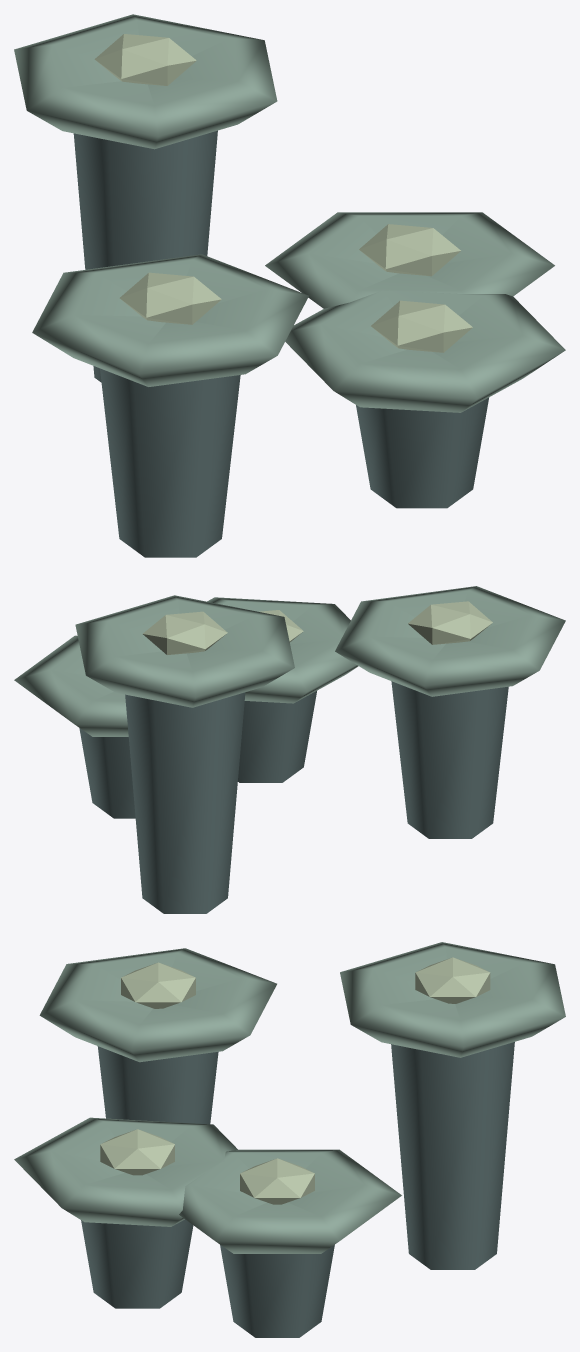
The model's file is plant-sporeCups.glb.
The picture shows the model from 3 angles, top to bottom: view 1: azimuth 30°, elevation 25°; view 2: azimuth 150°, elevation 25°; view 3: azimuth 270°, elevation 25°; orthographic projection. The views are drawn at different scales.
Parts seen in each view (by area): view 1: plant-sporeCups; view 2: plant-sporeCups; view 3: plant-sporeCups.
Boxes of the visible parts, left/top/right/bottom form: plant-sporeCups: left=14, top=14, right=565, bottom=557; plant-sporeCups: left=14, top=586, right=565, bottom=913; plant-sporeCups: left=14, top=942, right=565, bottom=1337.
Bounding box in the file's own units: 0.7302 × 0.4313 × 0.7522.
